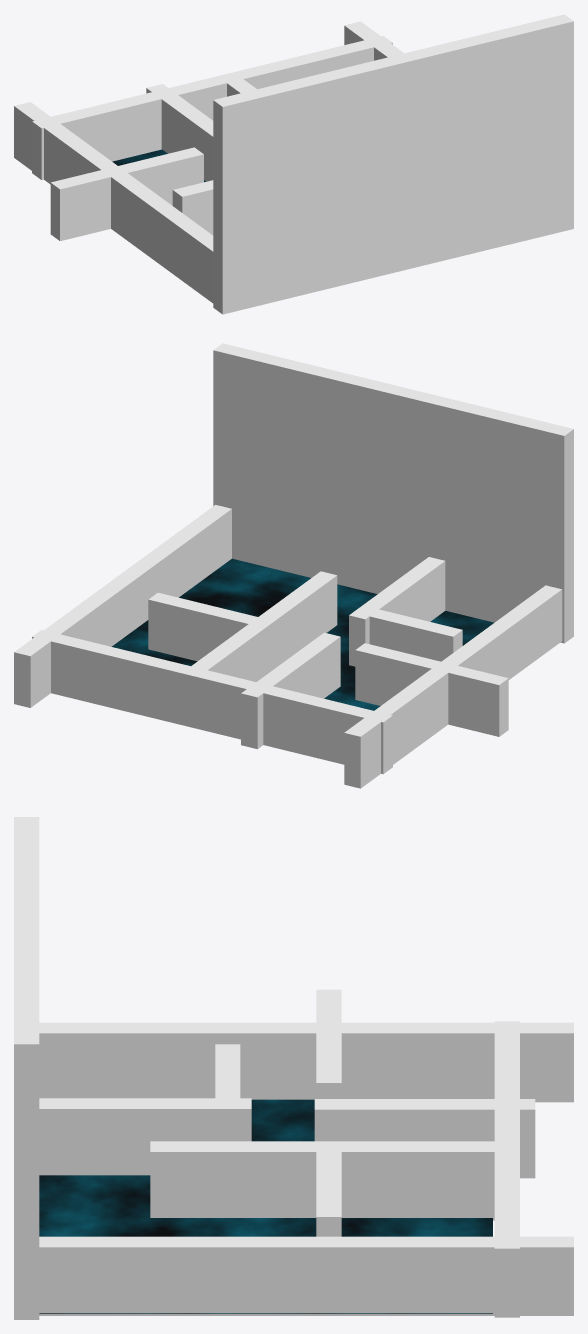
File: world2.gltf
The picture shows the model from 3 angles, top to bottom: view 1: azimuth 30°, elevation 25°; view 2: azimuth 150°, elevation 25°; view 3: azimuth 270°, elevation 25°; orthographic projection. The views are drawn at different scales.
Visible parts, largest first — view 1: CSGBox3D22, CSGBox3D42, CSGBox3D32, CSGBox3D102, CSGBox3D92, CSGBox3D112, CSGBox3D52; view 2: CSGBox3D22, CSGBox3D32, CSGBox3D42, CSGBox3D52, floor2, CSGBox3D82, CSGBox3D102, CSGBox3D122, CSGBox3D92, CSGBox3D62, CSGBox3D112; view 3: CSGBox3D52, CSGBox3D42, CSGBox3D82, floor2, CSGBox3D62, CSGBox3D22, CSGBox3D92, CSGBox3D32, CSGBox3D102, CSGBox3D122, CSGBox3D112.
Boxes of the visible parts, x1=… form: CSGBox3D22: x1=213, y1=14, x2=573, y2=314; CSGBox3D42: x1=14, y1=102, x2=213, y2=303; CSGBox3D32: x1=32, y1=35, x2=392, y2=179; CSGBox3D102: x1=50, y1=147, x2=203, y2=241; CSGBox3D92: x1=146, y1=84, x2=213, y2=181; CSGBox3D112: x1=172, y1=180, x2=213, y2=235; CSGBox3D52: x1=344, y1=21, x2=403, y2=60; CSGBox3D22: x1=213, y1=343, x2=573, y2=643; CSGBox3D32: x1=32, y1=630, x2=392, y2=774; CSGBox3D42: x1=344, y1=585, x2=562, y2=788; CSGBox3D52: x1=14, y1=505, x2=231, y2=707; floor2: x1=111, y1=558, x2=493, y2=710; CSGBox3D82: x1=191, y1=571, x2=337, y2=681; CSGBox3D102: x1=355, y1=643, x2=508, y2=736; CSGBox3D122: x1=148, y1=592, x2=257, y2=661; CSGBox3D92: x1=241, y1=632, x2=340, y2=749; CSGBox3D62: x1=349, y1=557, x2=445, y2=666; CSGBox3D112: x1=369, y1=609, x2=462, y2=661; CSGBox3D52: x1=39, y1=1236, x2=573, y2=1315; CSGBox3D42: x1=39, y1=1022, x2=573, y2=1102; CSGBox3D82: x1=150, y1=1141, x2=512, y2=1220; floor2: x1=39, y1=1099, x2=492, y2=1313; CSGBox3D62: x1=39, y1=1098, x2=251, y2=1175; CSGBox3D22: x1=14, y1=817, x2=39, y2=1319; CSGBox3D92: x1=314, y1=1099, x2=535, y2=1178; CSGBox3D32: x1=494, y1=1021, x2=519, y2=1317; CSGBox3D102: x1=316, y1=989, x2=341, y2=1098; CSGBox3D122: x1=316, y1=1152, x2=341, y2=1236; CSGBox3D112: x1=215, y1=1044, x2=240, y2=1098.
Size of the model in its own units: 24.22 by 12.01 by 22.14.
Materials: 11 (1 with a texture image).
